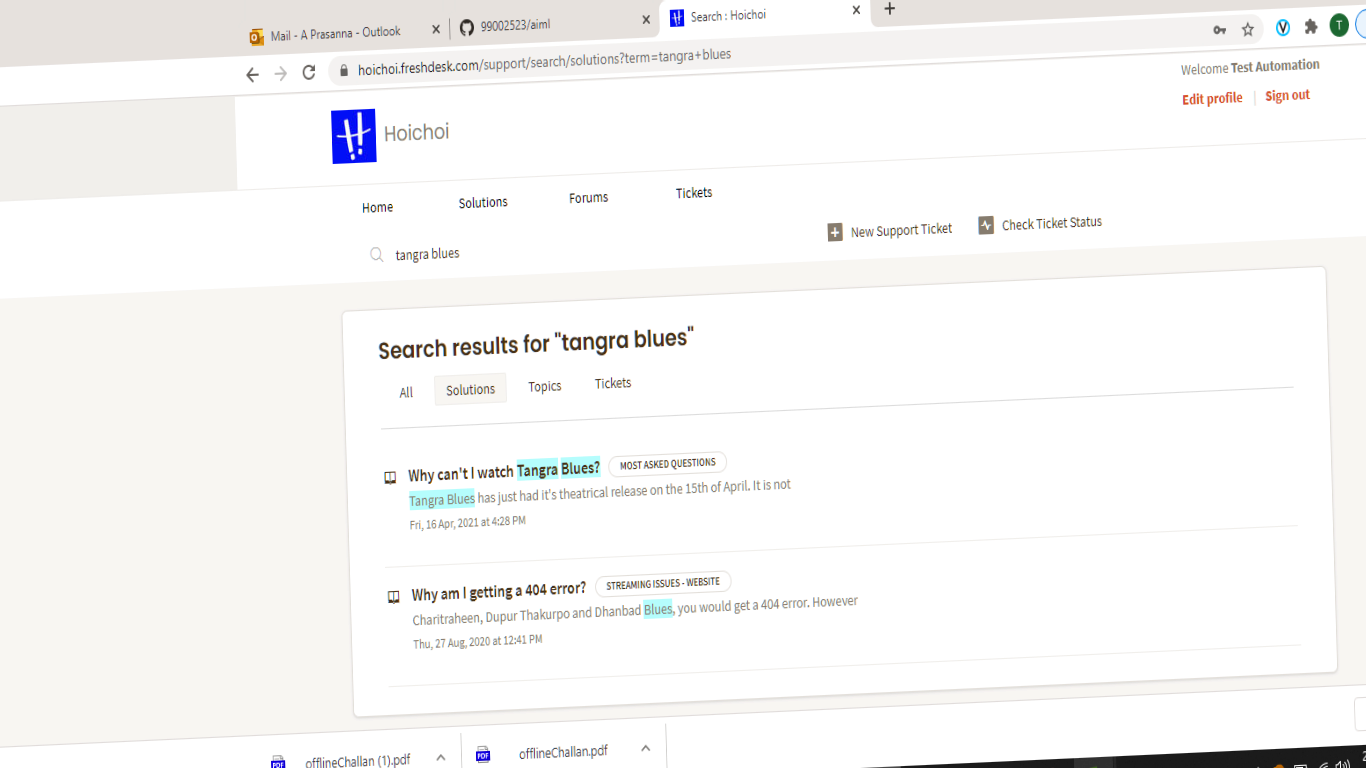profileicon: (1170, 83, 1255, 119)
resultsfound: (349, 301, 720, 378)
searchicon: (356, 227, 397, 277)
searchtextbox: (355, 229, 789, 275)
